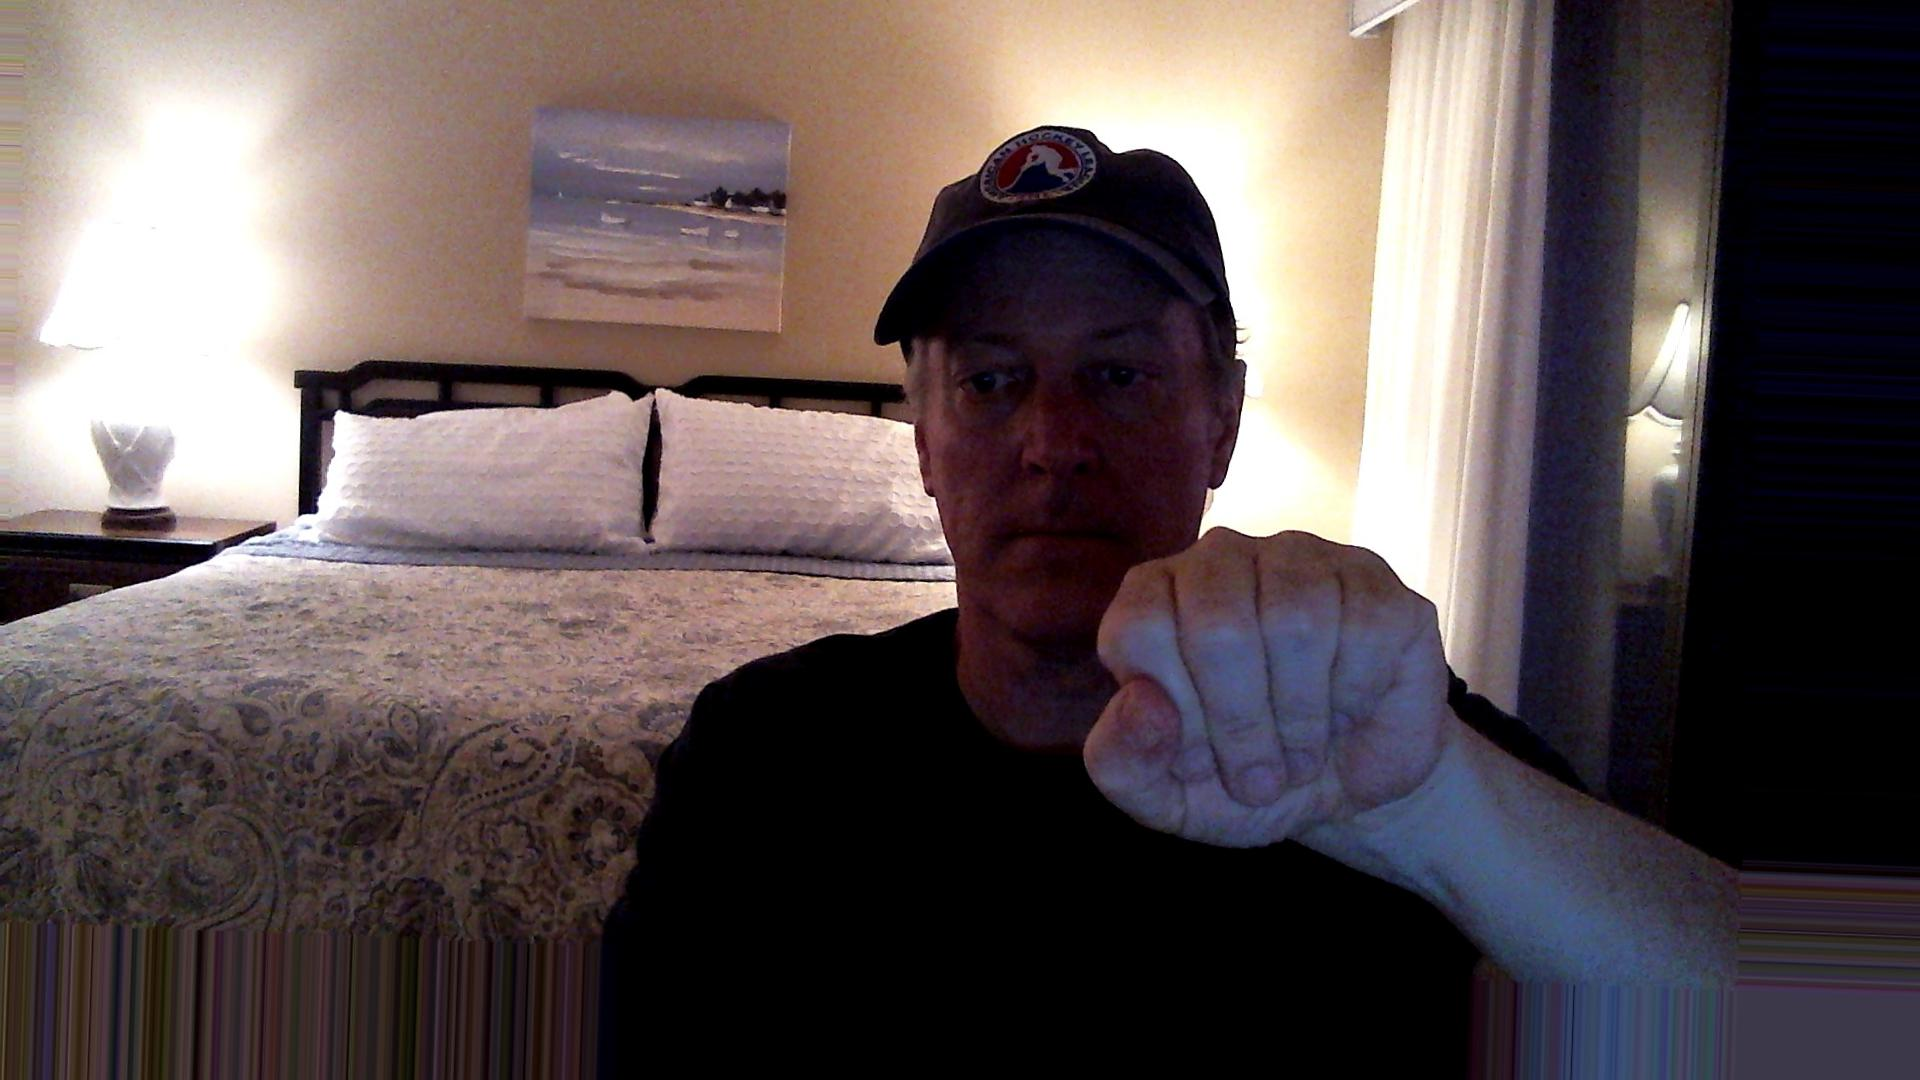Yes: (1058, 510, 1518, 880)
